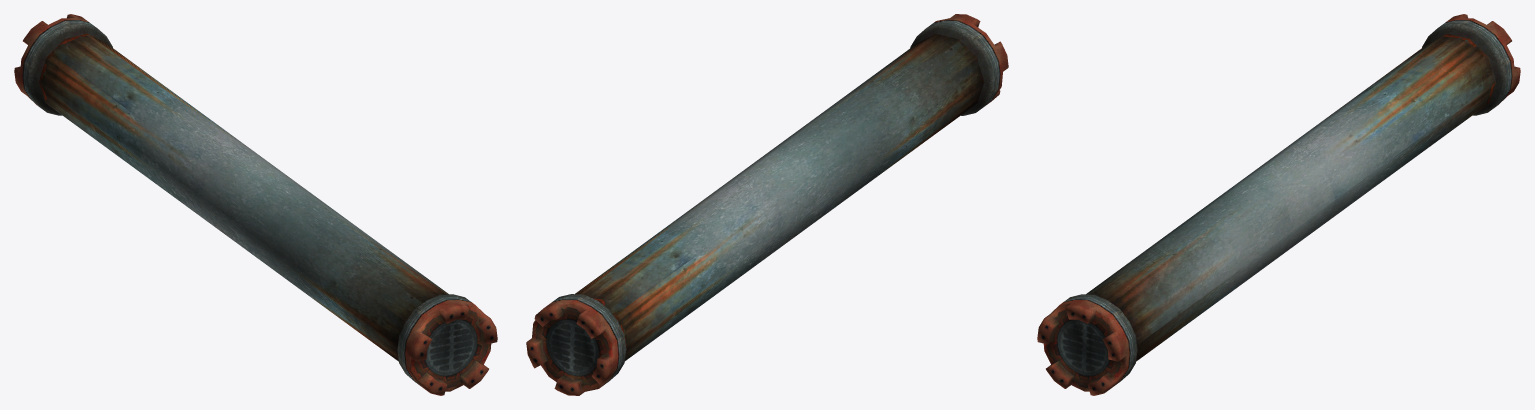
Rendered from tau_tech_4m.DAE.
3 views of the same model, side by side, from view 1: azimuth 30°, elevation 25°; view 2: azimuth 150°, elevation 25°; view 3: azimuth 330°, elevation 25° (orthographic).
Visible parts, largest first — view 1: polySurface799; view 2: polySurface799; view 3: polySurface799.
Boxes of the visible parts, x1,y1,x2,y2 form: polySurface799: [14, 14, 497, 395]; polySurface799: [526, 14, 1008, 395]; polySurface799: [1037, 14, 1520, 395].
Bounding box in the file's own units: 0.4984 × 0.5035 × 4.1.
